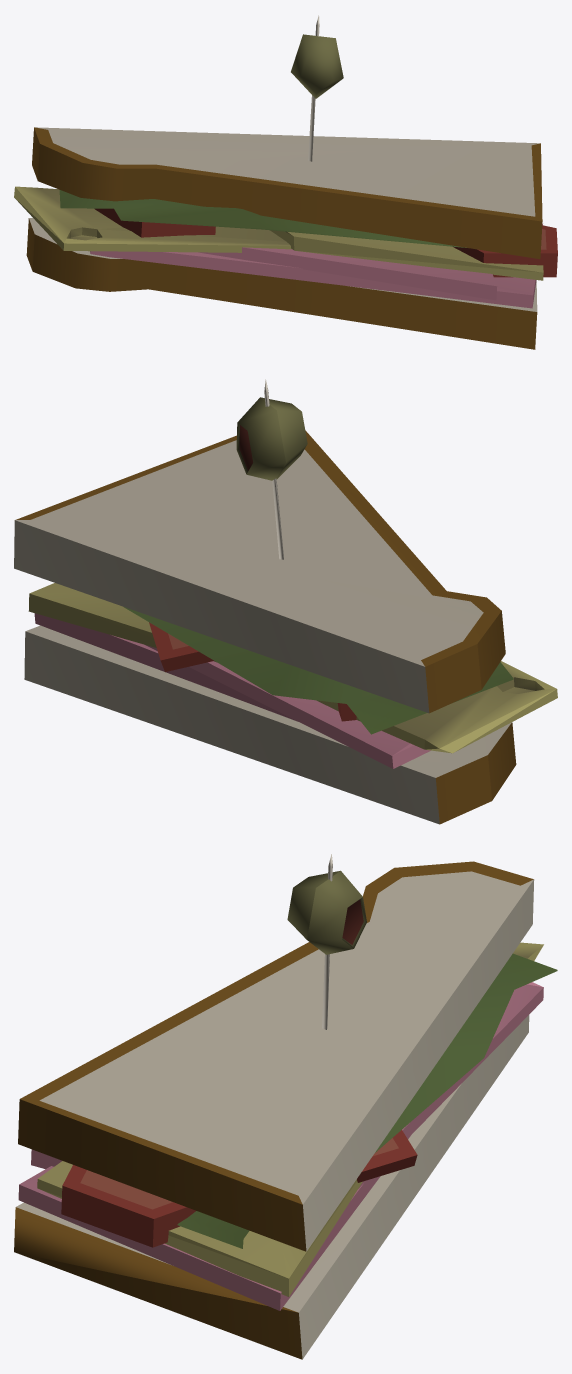
File: hat_sandvich.glb
3 views of the same model, one above another, from view 1: azimuth 30°, elevation 25°; view 2: azimuth 150°, elevation 25°; view 3: azimuth 270°, elevation 25° (orthographic). The views are drawn at different scales.
Visible parts, largest first — view 1: hat_sandvich; view 2: hat_sandvich; view 3: hat_sandvich.
Part boxes in pixels (box(x1,y1,x2,y2)): hat_sandvich: box(14, 15, 557, 349); hat_sandvich: box(14, 379, 557, 824); hat_sandvich: box(14, 854, 557, 1359).
Bounding box in the file's own units: 0.4353 × 0.272 × 0.3529.
